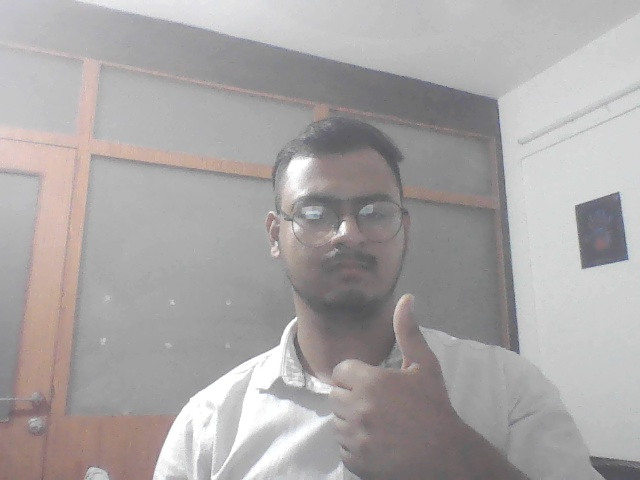Good: (326, 286, 470, 468)
